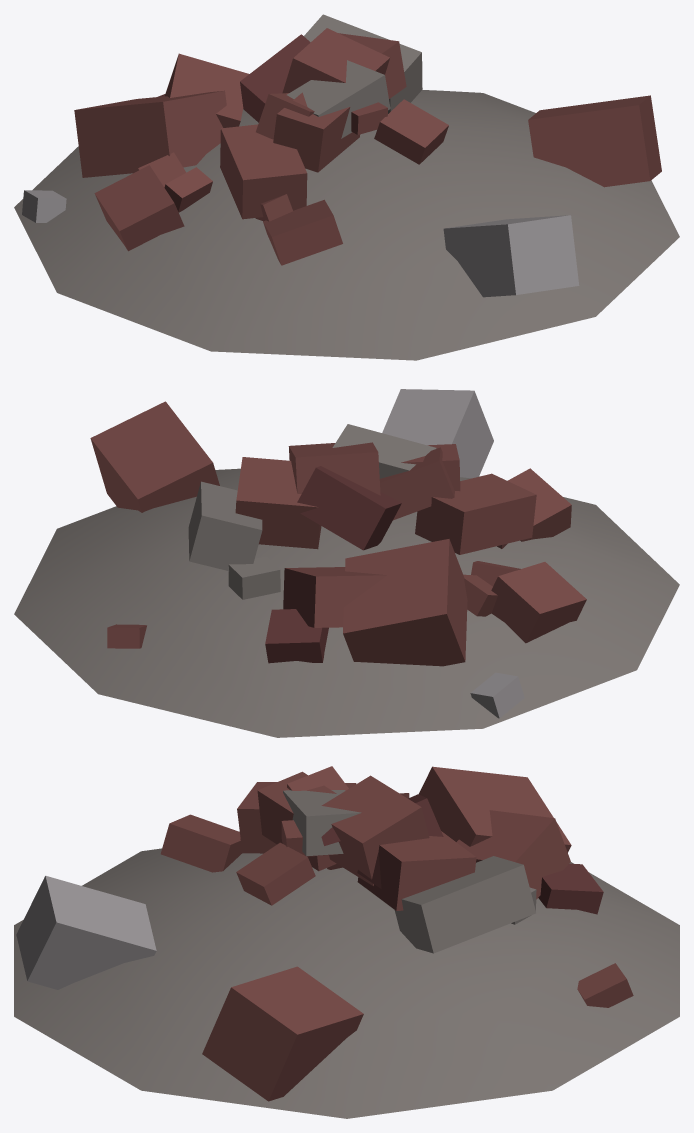
The model's file is rubble_pile.glb.
3 renders of one model, top to bottom at view 1: azimuth 30°, elevation 25°; view 2: azimuth 150°, elevation 25°; view 3: azimuth 270°, elevation 25°, orthographic. The views are drawn at different scales.
Visible parts, largest first — view 1: RubblePile; view 2: RubblePile; view 3: RubblePile.
Part boxes in pixels (<box>): RubblePile: <box>14,14,679,360</box>; RubblePile: <box>14,389,679,737</box>; RubblePile: <box>14,766,679,1118</box>.
Size of the model in its own units: 2.6 by 0.7466 by 2.47.
